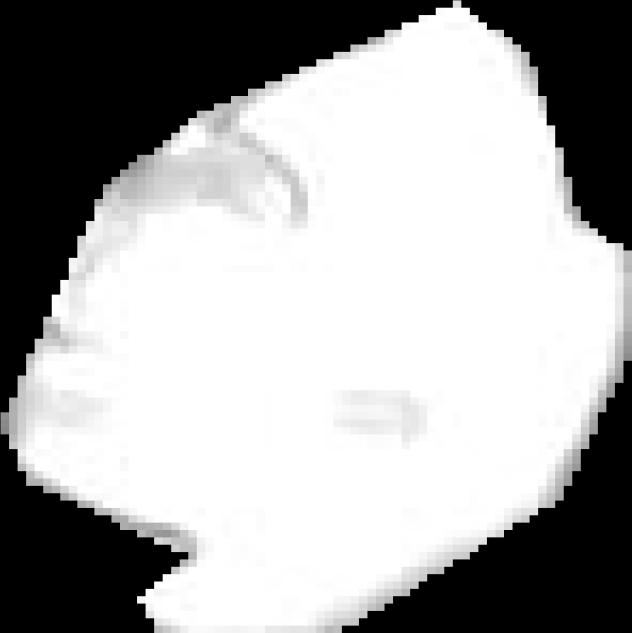tumor_moderate_chance: (1, 0, 632, 633)
